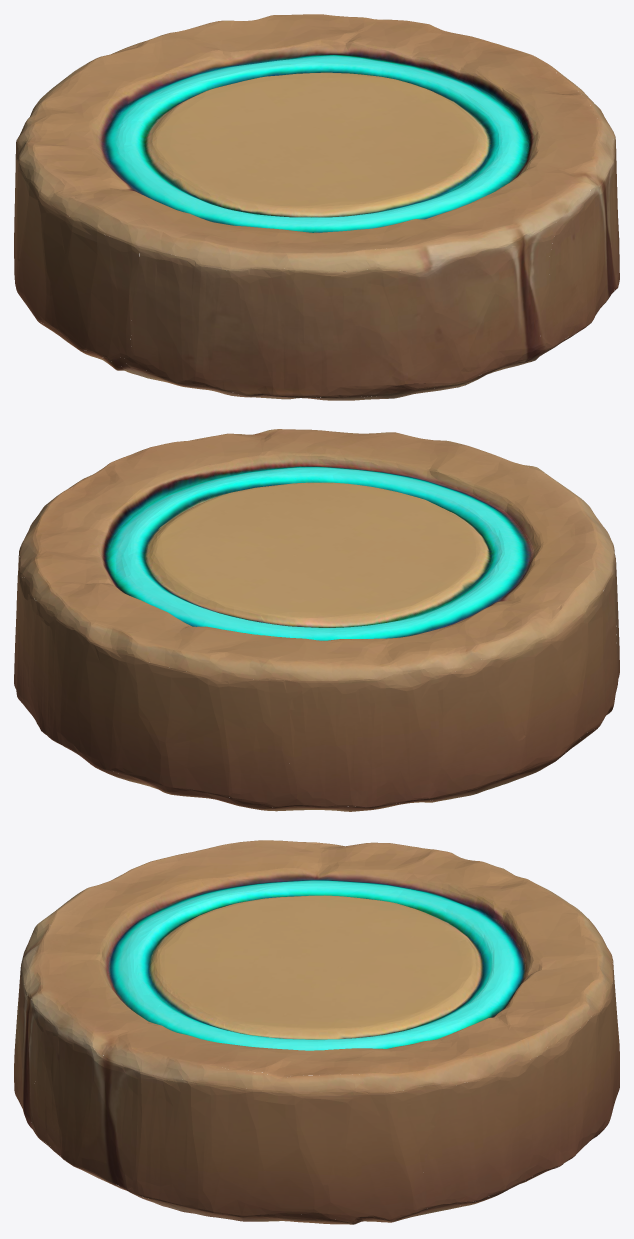
Rendered from spawn_pad.glb.
3 views of the same model, one above another, from view 1: azimuth 30°, elevation 25°; view 2: azimuth 150°, elevation 25°; view 3: azimuth 270°, elevation 25° (orthographic).
Parts seen in each view (by area): view 1: tmpa2a326o5.ply; view 2: tmpa2a326o5.ply; view 3: tmpa2a326o5.ply.
Boxes of the visible parts, x1=… form: tmpa2a326o5.ply: x1=14, y1=14, x2=619, y2=400; tmpa2a326o5.ply: x1=14, y1=429, x2=619, y2=811; tmpa2a326o5.ply: x1=14, y1=840, x2=619, y2=1224.
Size of the model in its own units: 1.99 by 0.5459 by 1.99.
1 material, 1 textured.
